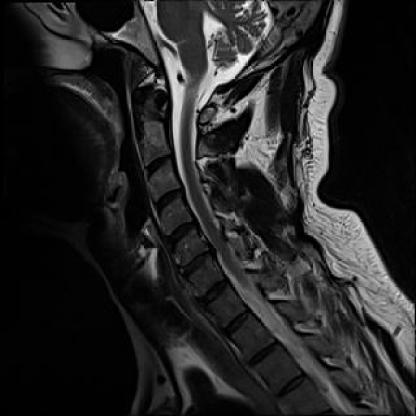Disc Bulgerotation: (160, 224, 201, 245), (177, 254, 218, 272)
Disc Protrusionrotation: (151, 191, 187, 210)
